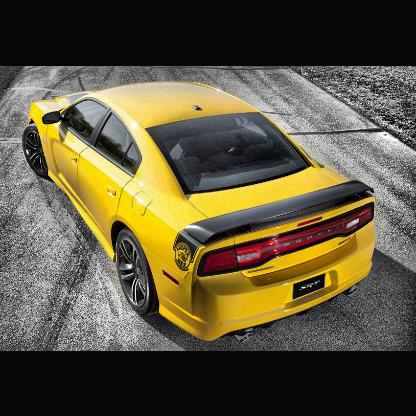Dodge Charger Sedan 2012: (22, 79, 380, 344)
